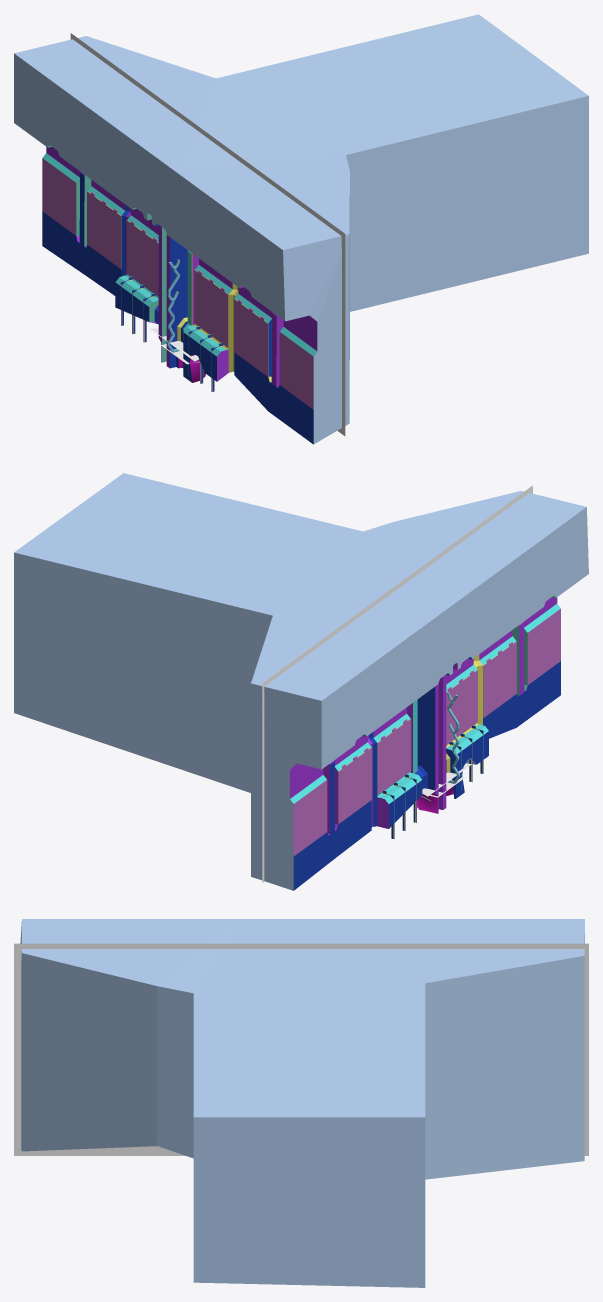
File: sentwall_2.fbx
3 renders of one model, top to bottom at view 1: azimuth 30°, elevation 25°; view 2: azimuth 150°, elevation 25°; view 3: azimuth 270°, elevation 25°, orthographic. The views are drawn at different scales.
Parts seen in each view (by area): view 1: sky, wall_new, +portal; view 2: sky, wall_new, +portal; view 3: sky, +portal.
Part boxes in pixels (left/top/right/bottom): sky: left=14, top=14, right=588, bottom=443; wall_new: left=42, top=145, right=317, bottom=444; +portal: left=70, top=33, right=345, bottom=436; sky: left=14, top=473, right=588, bottom=890; wall_new: left=290, top=595, right=560, bottom=890; +portal: left=262, top=485, right=532, bottom=882; sky: left=20, top=919, right=584, bottom=1287; +portal: left=14, top=943, right=588, bottom=1155.
Size of what is drawn, in the model's own units: 48624 by 39706 by 21536.
